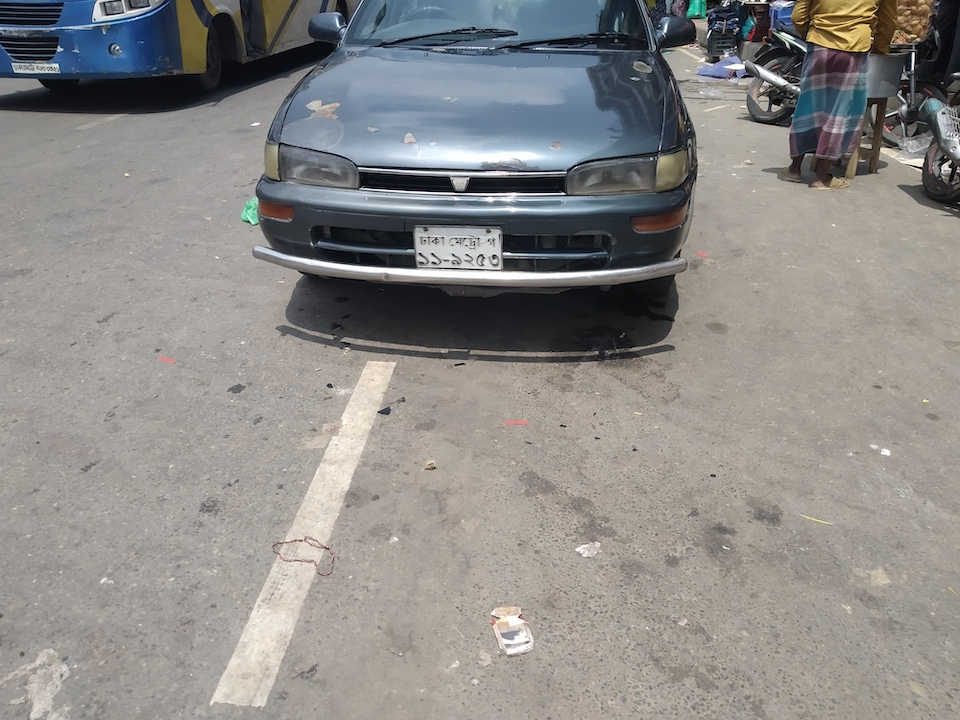registration_plate: (415, 225, 504, 270)
